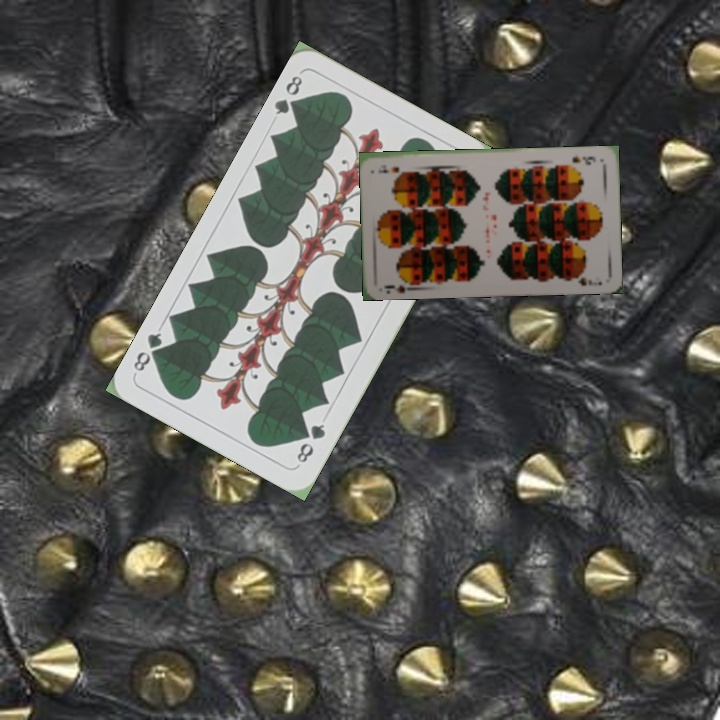G8: (292, 419, 328, 466), (270, 71, 306, 118)
S9: (380, 275, 418, 295), (568, 152, 598, 167)
